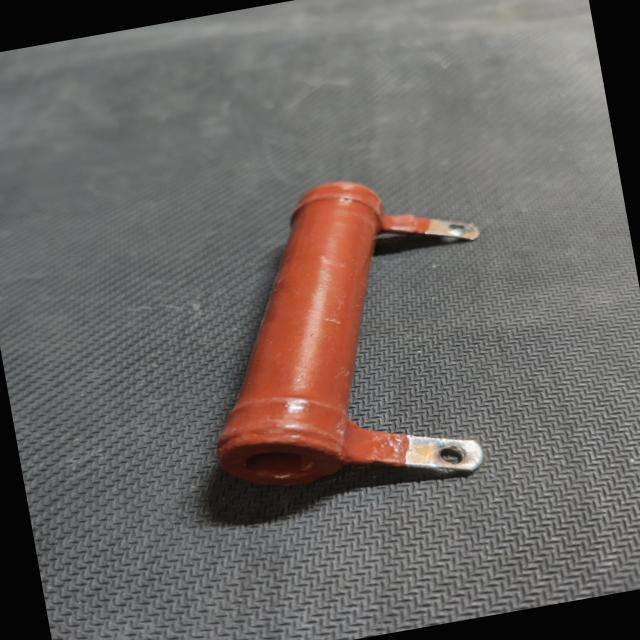resistor: (148, 147, 533, 534)
